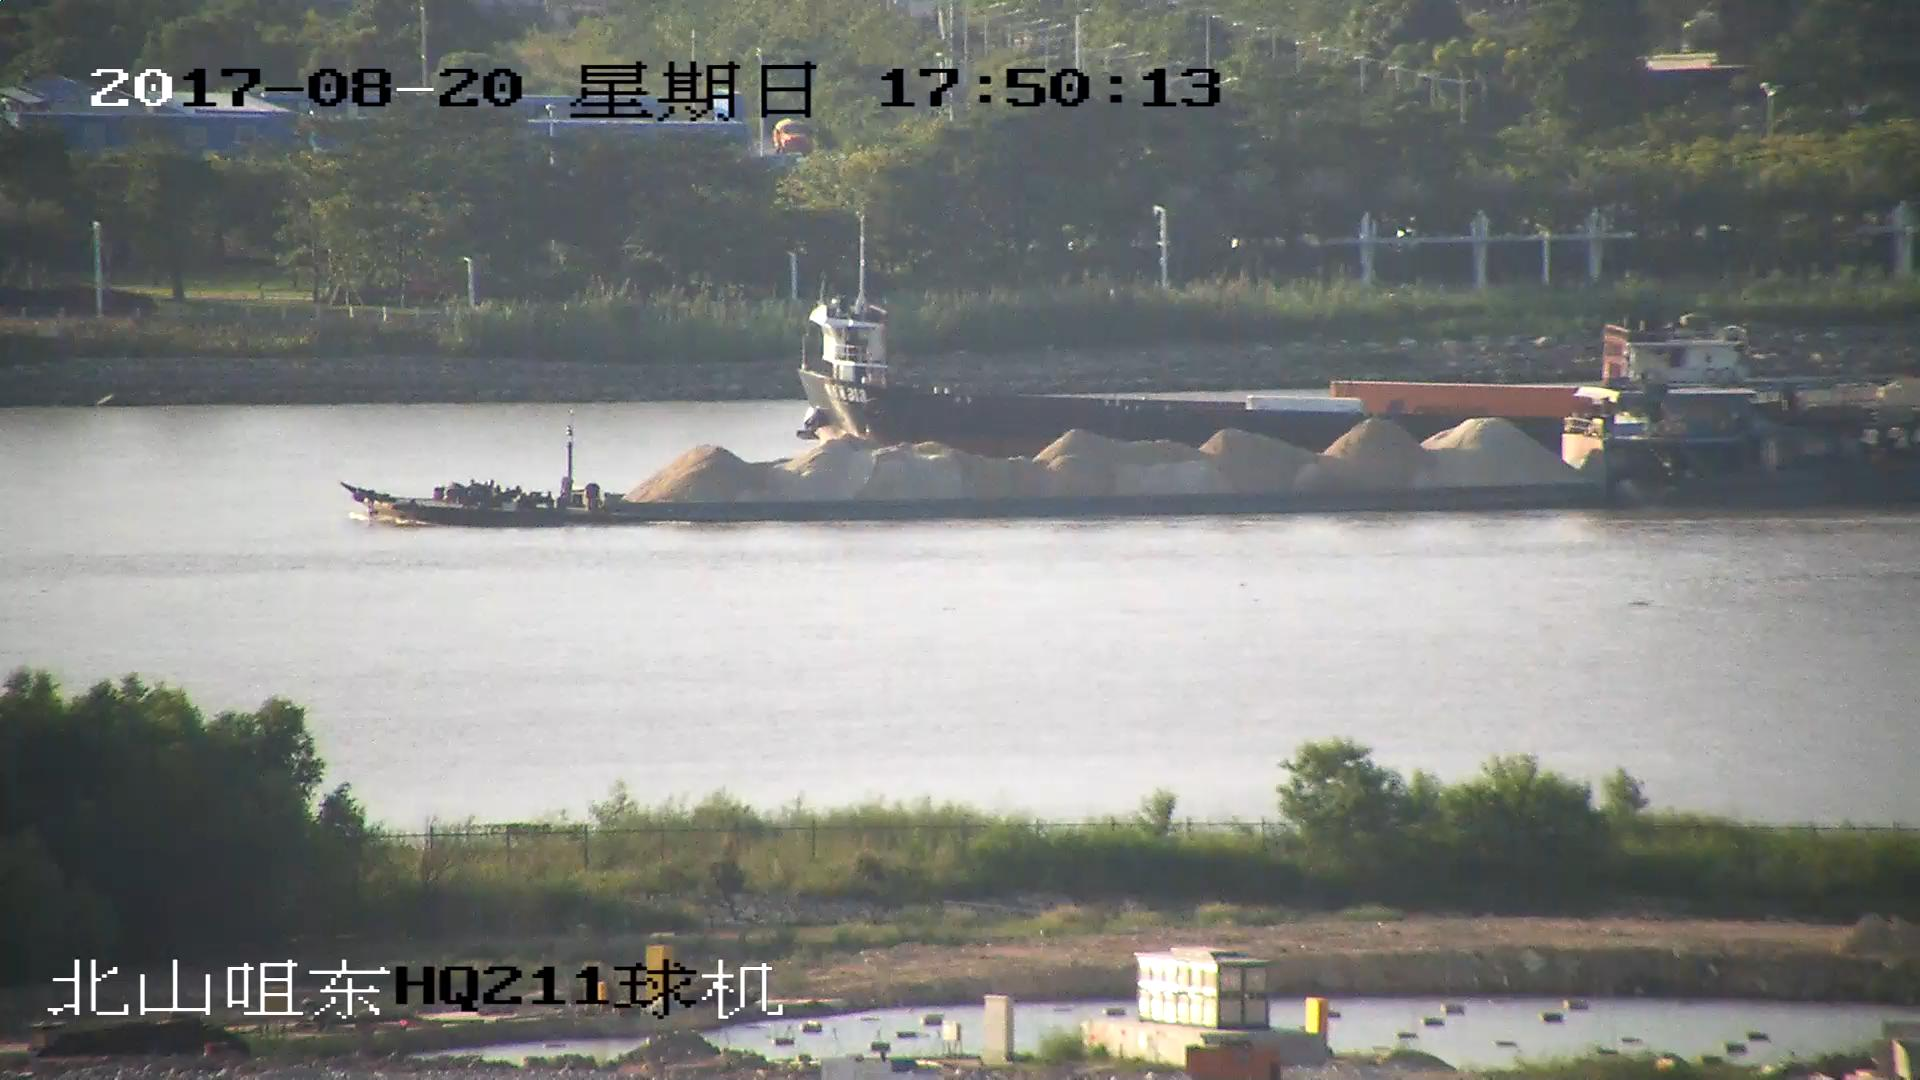general cargo ship: (802, 203, 1748, 444)
ore carrier: (359, 403, 1920, 523)
